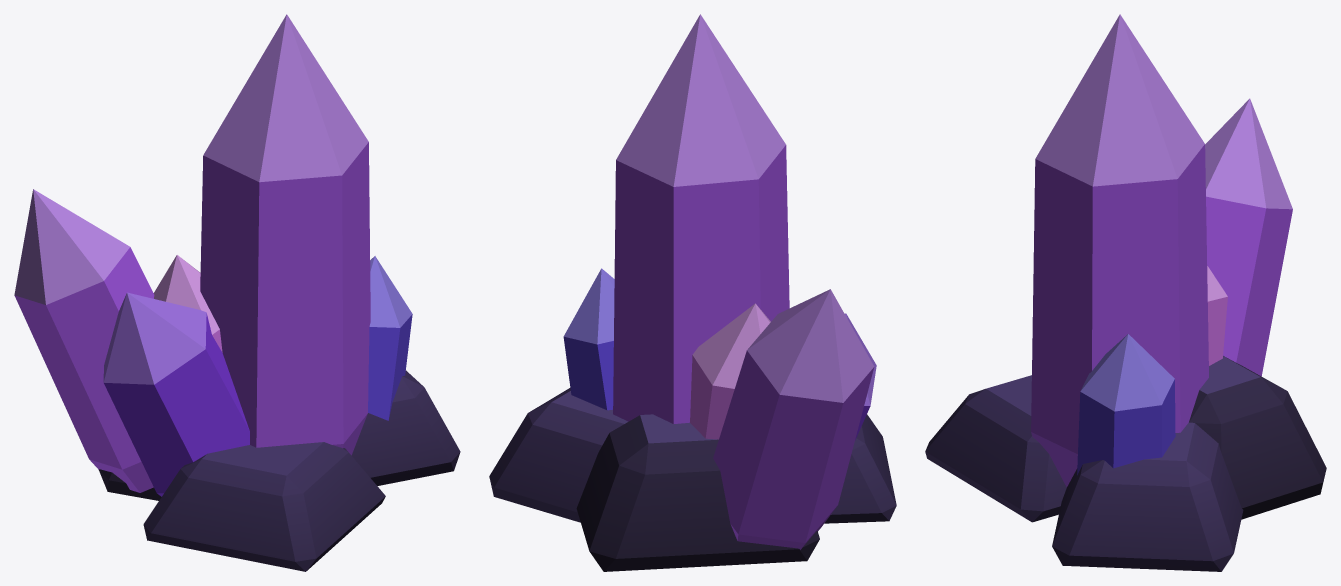
Rendered from void_crystal_2.glb.
The picture shows the model from 3 angles, left to right: view 1: azimuth 30°, elevation 25°; view 2: azimuth 150°, elevation 25°; view 3: azimuth 270°, elevation 25°; orthographic projection. The views are drawn at different scales.
Parts seen in each view (by area): view 1: Glow, Body; view 2: Glow, Body; view 3: Glow, Body.
Boxes of the visible parts, bbox=[...] form: Glow: bbox=[14, 14, 412, 496]; Body: bbox=[99, 370, 460, 571]; Glow: bbox=[563, 14, 876, 549]; Body: bbox=[489, 388, 896, 571]; Glow: bbox=[1031, 14, 1292, 487]; Body: bbox=[925, 356, 1326, 571].
Bounding box in the file's own units: 1.71 × 2.1 × 1.58.
